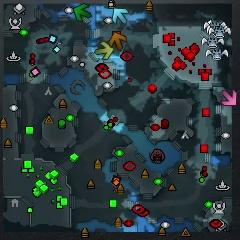x1: (220, 88, 237, 108)
x2: (95, 41, 114, 61)
x3: (112, 8, 129, 23)
x4: (74, 3, 92, 22)
x5: (109, 31, 128, 50)
